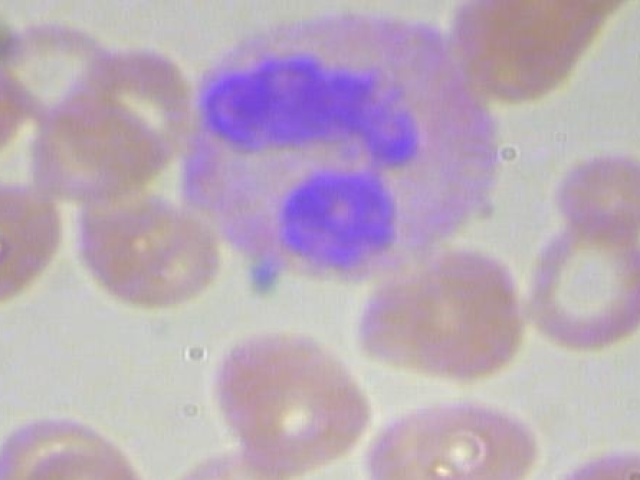RBC: (351, 244, 537, 383), (206, 335, 376, 468), (75, 180, 226, 312), (361, 387, 547, 480), (521, 219, 640, 354), (0, 162, 68, 311), (552, 144, 640, 239), (155, 447, 294, 480), (549, 443, 640, 480)
WBC: (178, 2, 513, 284)
